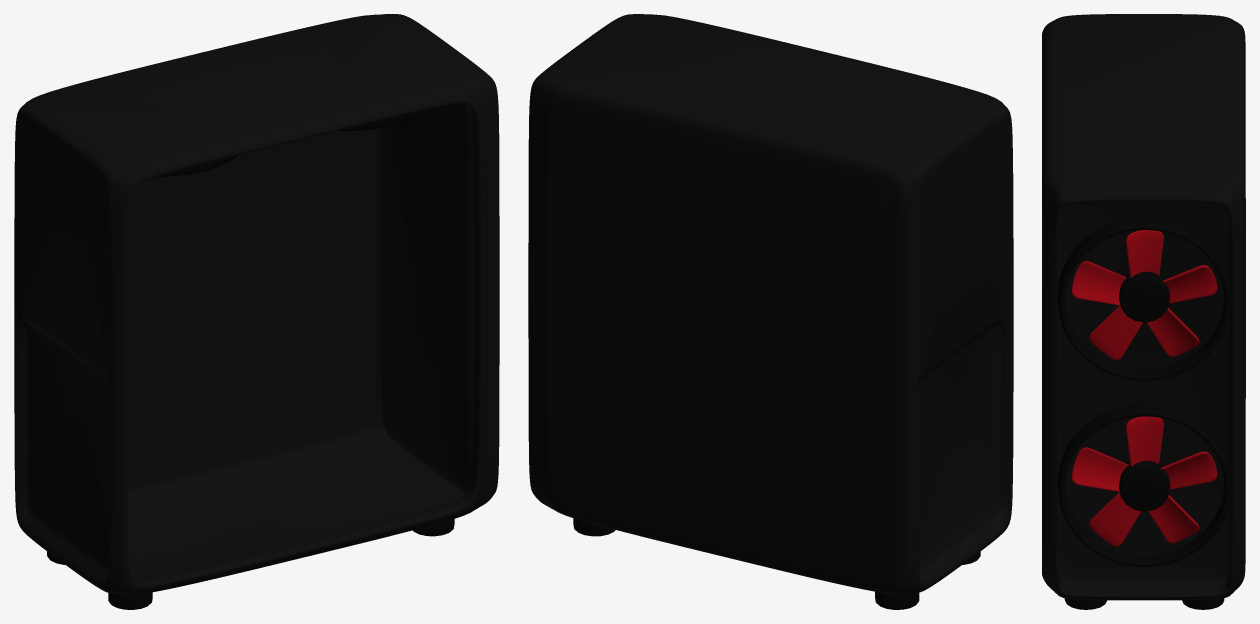
File: kasa.fbx
3 renders of one model, left to right at view 1: azimuth 30°, elevation 25°; view 2: azimuth 150°, elevation 25°; view 3: azimuth 270°, elevation 25°, orthographic. The views are drawn at different scales.
Visible parts, largest first — view 1: body, foots; view 2: body, foots; view 3: body, fans3, fans2, fans_circle2, fans_circle3, fan_mid2, fan_mid3, foots.
Boxes of the visible parts, bbox=[...] form: body: bbox=[14, 14, 499, 594]; foots: bbox=[47, 519, 454, 609]; body: bbox=[528, 14, 1013, 594]; foots: bbox=[573, 518, 980, 609]; body: bbox=[1042, 14, 1245, 600]; fans3: bbox=[1071, 416, 1217, 546]; fans2: bbox=[1071, 230, 1217, 360]; fans_circle2: bbox=[1057, 217, 1231, 380]; fans_circle3: bbox=[1057, 403, 1231, 567]; fan_mid2: bbox=[1119, 271, 1169, 322]; fan_mid3: bbox=[1119, 460, 1169, 511]; foots: bbox=[1064, 598, 1224, 609].
Bounding box in the file's own units: 41.9 × 46.7 × 19.83.
